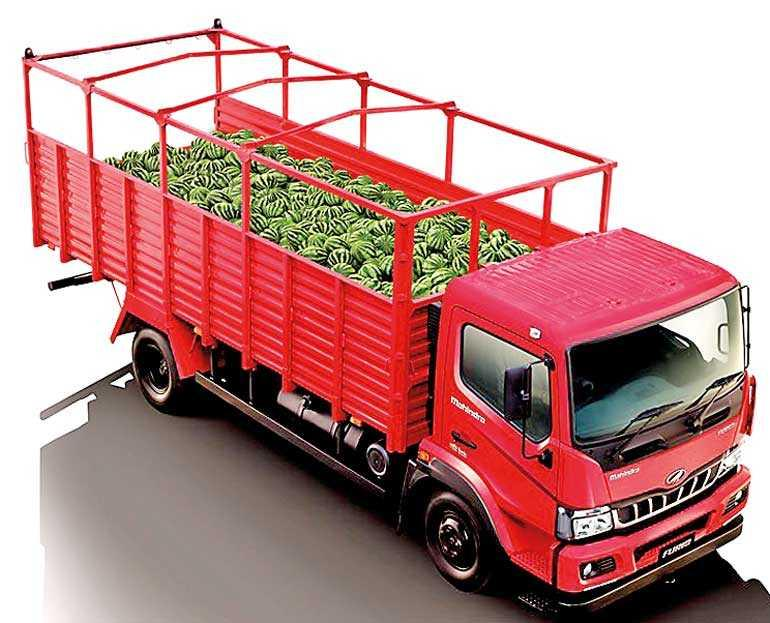truck: (21, 18, 758, 618)
